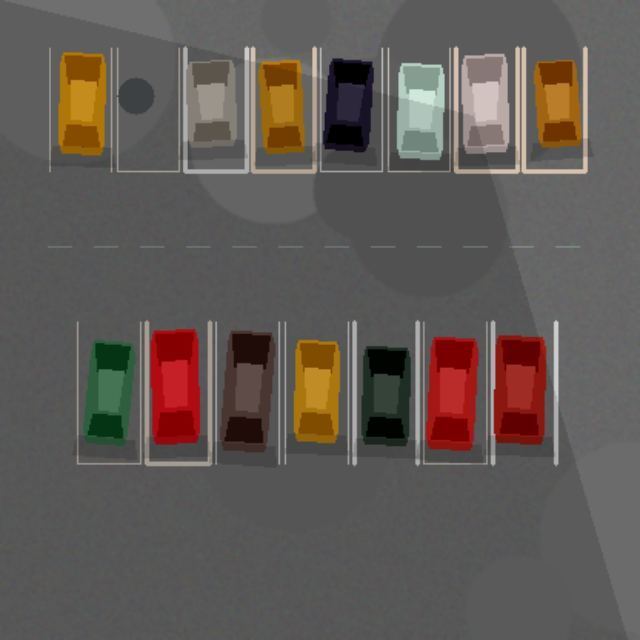space-empty: (117, 48, 178, 171)
space-occupied: (77, 322, 140, 463), (146, 322, 209, 463), (215, 322, 278, 463), (285, 322, 348, 463), (354, 322, 417, 463), (423, 322, 486, 463), (492, 322, 555, 463), (49, 48, 111, 171), (252, 48, 314, 171), (320, 48, 382, 171), (455, 48, 517, 171), (523, 48, 585, 171), (185, 48, 246, 171), (388, 48, 449, 171)
